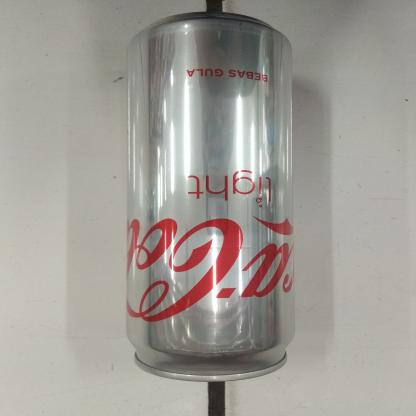can: (116, 9, 307, 388)
